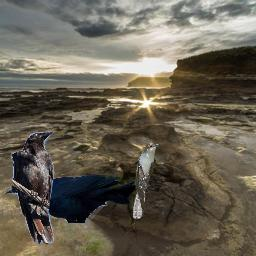Crow: (4, 174, 136, 223), (11, 130, 55, 244)
Cuckoo: (132, 142, 160, 219)
